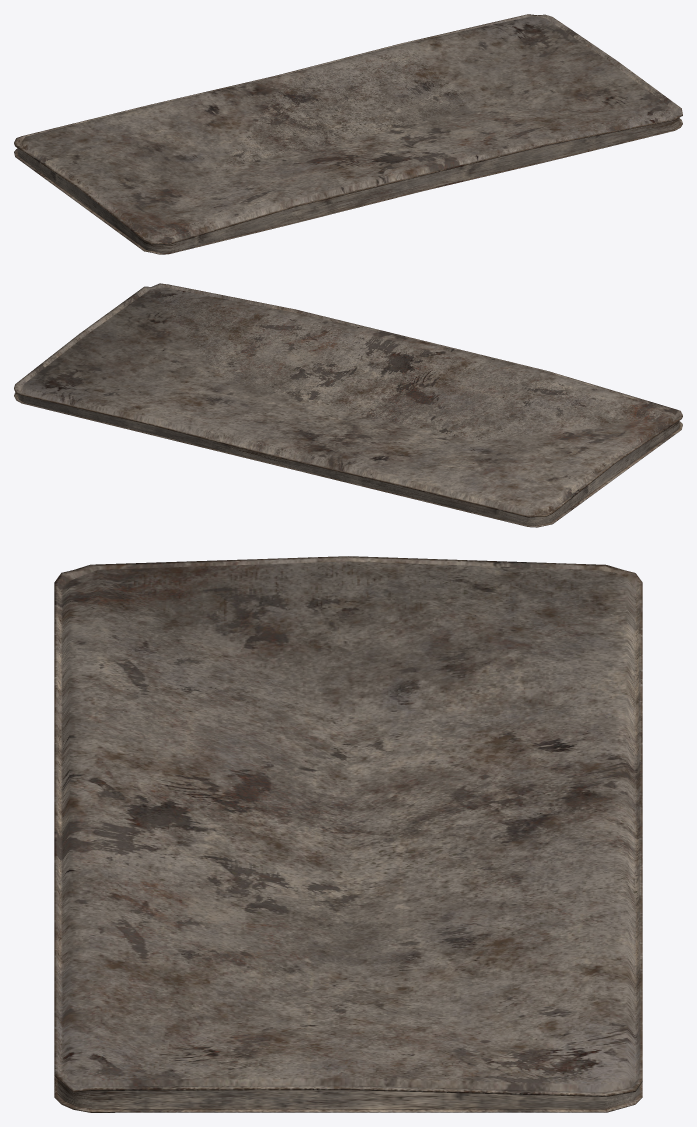
File: old_dirty_mattress.glb
3 views of the same model, one above another, from view 1: azimuth 30°, elevation 25°; view 2: azimuth 150°, elevation 25°; view 3: azimuth 270°, elevation 25° (orthographic). The views are drawn at different scales.
Visible parts, largest first — view 1: matrac; view 2: matrac; view 3: matrac.
Boxes of the visible parts, x1=… form: matrac: x1=14, y1=14, x2=682, y2=254; matrac: x1=14, y1=283, x2=682, y2=527; matrac: x1=54, y1=556, x2=642, y2=1112.
Size of the model in its own units: 75.53 by 2.99 by 35.78.
Materials: 1 (1 with a texture image).
